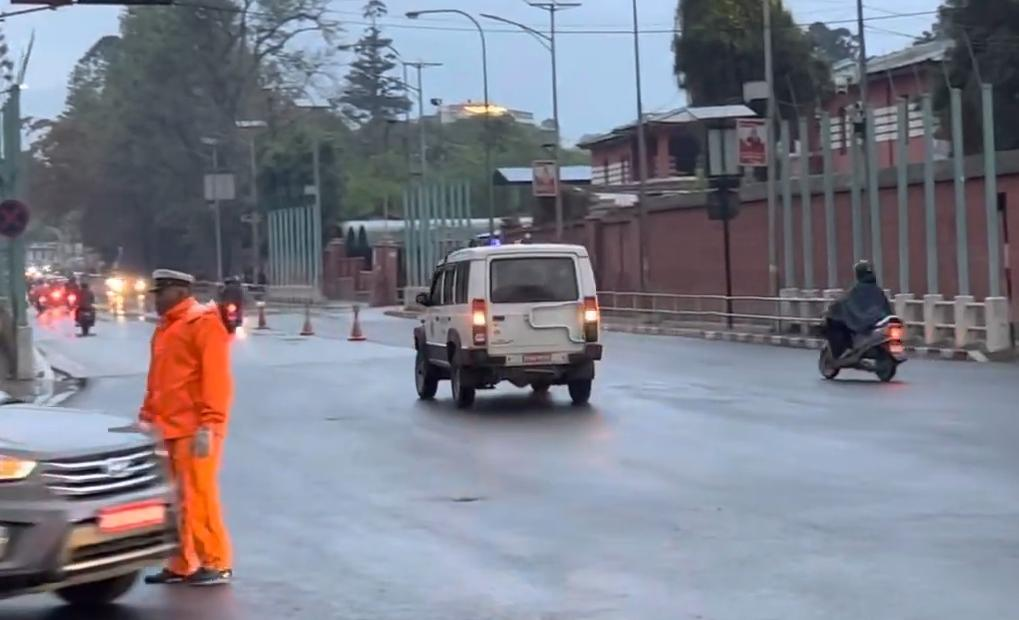ambulance: (412, 238, 602, 411)
car: (0, 379, 187, 620)
scooter: (811, 308, 908, 383)
